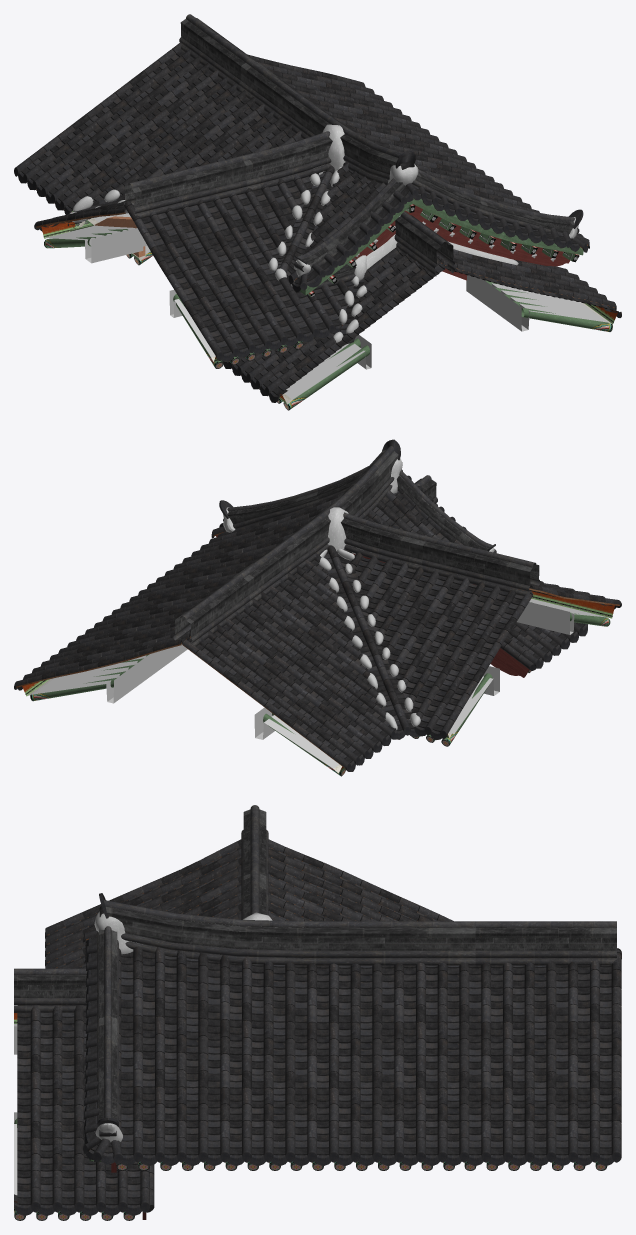
File: SM_Giwa02B_a5.fbx
3 renders of one model, top to bottom at view 1: azimuth 30°, elevation 25°; view 2: azimuth 150°, elevation 25°; view 3: azimuth 270°, elevation 25°, orthographic. The views are drawn at different scales.
Parts seen in each view (by area): view 1: SM_Giwa02B_a5; view 2: SM_Giwa02B_a5; view 3: SM_Giwa02B_a5.
Part boxes in pixels (left/top/right/bottom): SM_Giwa02B_a5: left=14, top=14, right=621, bottom=410; SM_Giwa02B_a5: left=14, top=439, right=621, bottom=776; SM_Giwa02B_a5: left=14, top=805, right=621, bottom=1220.
Size of the model in its own units: 762 by 858 by 362.
